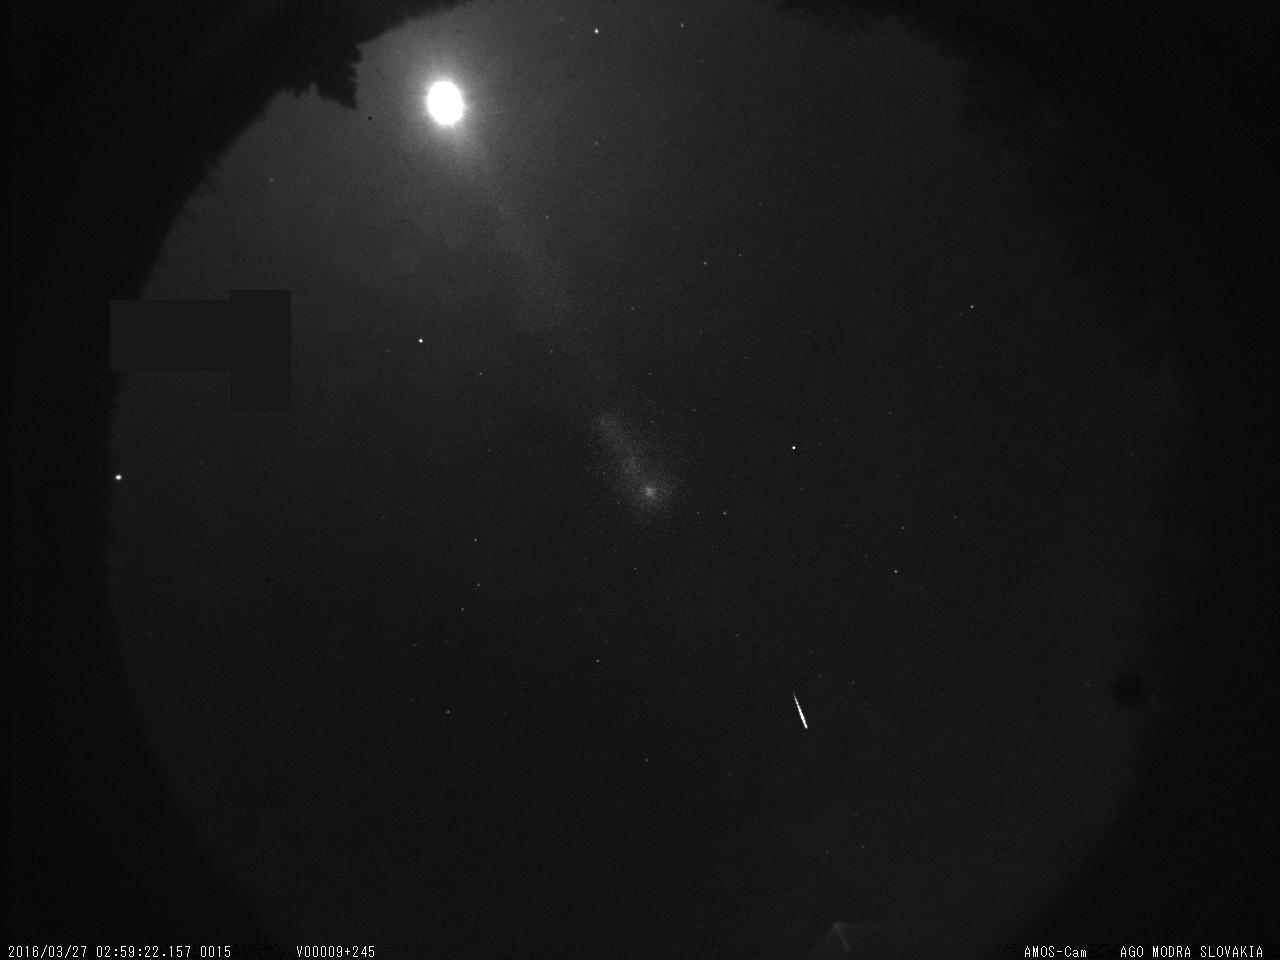meteor: (777, 684, 827, 741)
